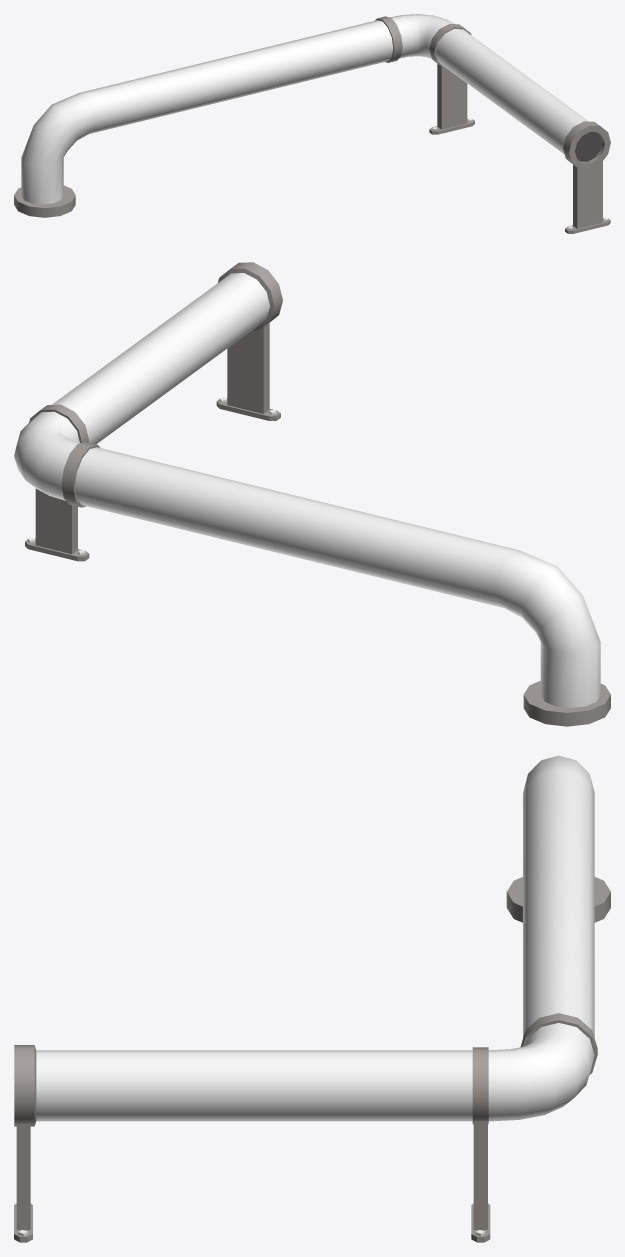
The model's file is Obstacle_3.fbx.
3 views of the same model, one above another, from view 1: azimuth 30°, elevation 25°; view 2: azimuth 150°, elevation 25°; view 3: azimuth 270°, elevation 25° (orthographic). The views are drawn at different scales.
Visible parts, largest first — view 1: Obstacle_3; view 2: Obstacle_3; view 3: Obstacle_3.
Part boxes in pixels (x1=…): Obstacle_3: x1=14, y1=14, x2=610, y2=233; Obstacle_3: x1=14, y1=262, x2=610, y2=726; Obstacle_3: x1=14, y1=755, x2=610, y2=1242.
Size of the model in its own units: 2357 by 542 by 1671.
